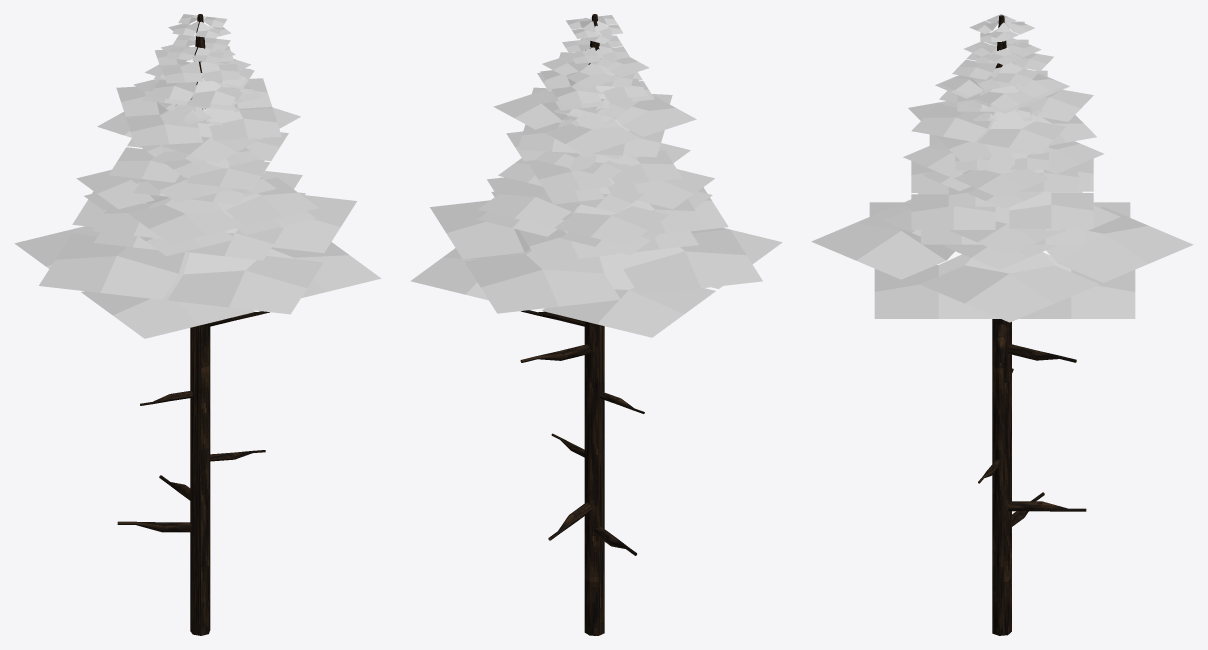
The model's file is Tallconiferous.fbx.
The picture shows the model from 3 angles, left to right: view 1: azimuth 30°, elevation 25°; view 2: azimuth 150°, elevation 25°; view 3: azimuth 270°, elevation 25°; orthographic projection.
Visible parts, largest first — view 1: Cylinder.013; view 2: Cylinder.013; view 3: Cylinder.013.
Part boxes in pixels (box(x1,y1,x2,y2)): Cylinder.013: box(14, 14, 381, 635); Cylinder.013: box(410, 14, 782, 635); Cylinder.013: box(811, 14, 1193, 635).
Bounding box in the file's own units: 795 × 1437 × 810.
2 materials, 1 textured.
